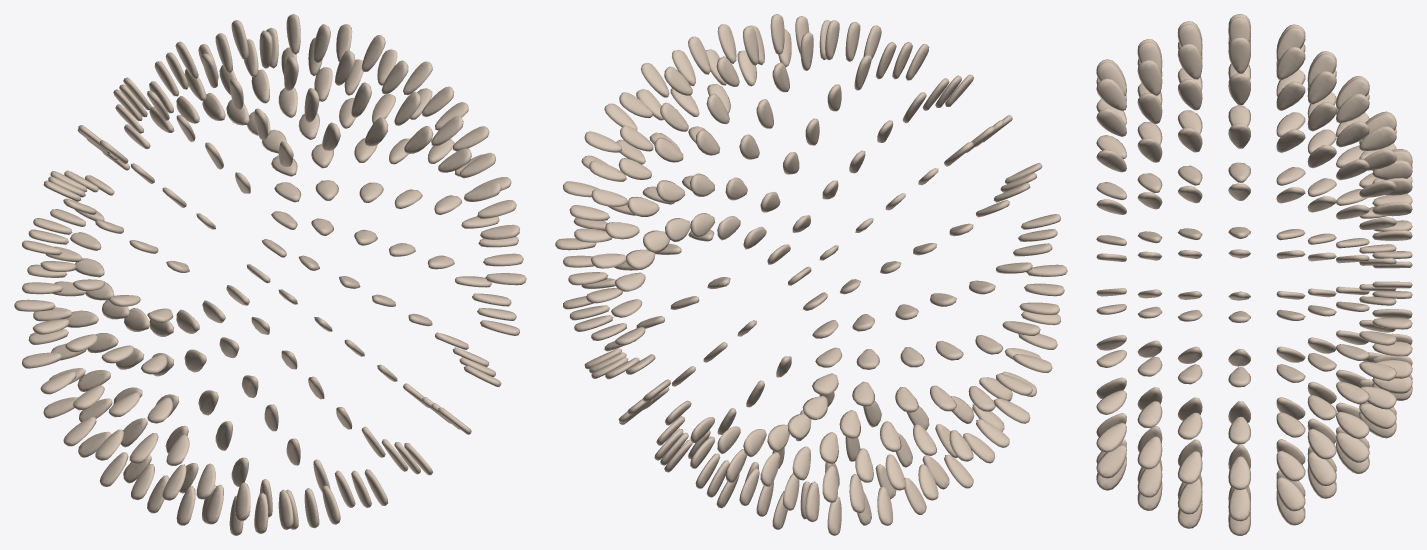
The model's file is GreenTomatoSeed.obj.
3 renders of one model, left to right at view 1: azimuth 30°, elevation 25°; view 2: azimuth 150°, elevation 25°; view 3: azimuth 270°, elevation 25°, orthographic. The views are drawn at different scales.
Parts seen in each view (by area): view 1: GreenTomatoSeed; view 2: GreenTomatoSeed; view 3: GreenTomatoSeed.
Boxes of the visible parts, x1,y1,x2,y2 form: GreenTomatoSeed: [14, 14, 526, 535]; GreenTomatoSeed: [555, 14, 1067, 535]; GreenTomatoSeed: [1096, 14, 1412, 535].
Size of the model in its own units: 0.0625 by 0.0625 by 0.0377.
